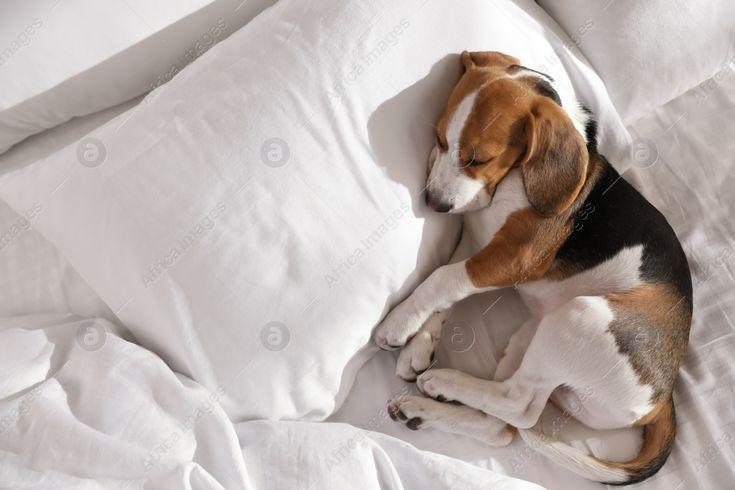adult_dog: (376, 49, 695, 487)
